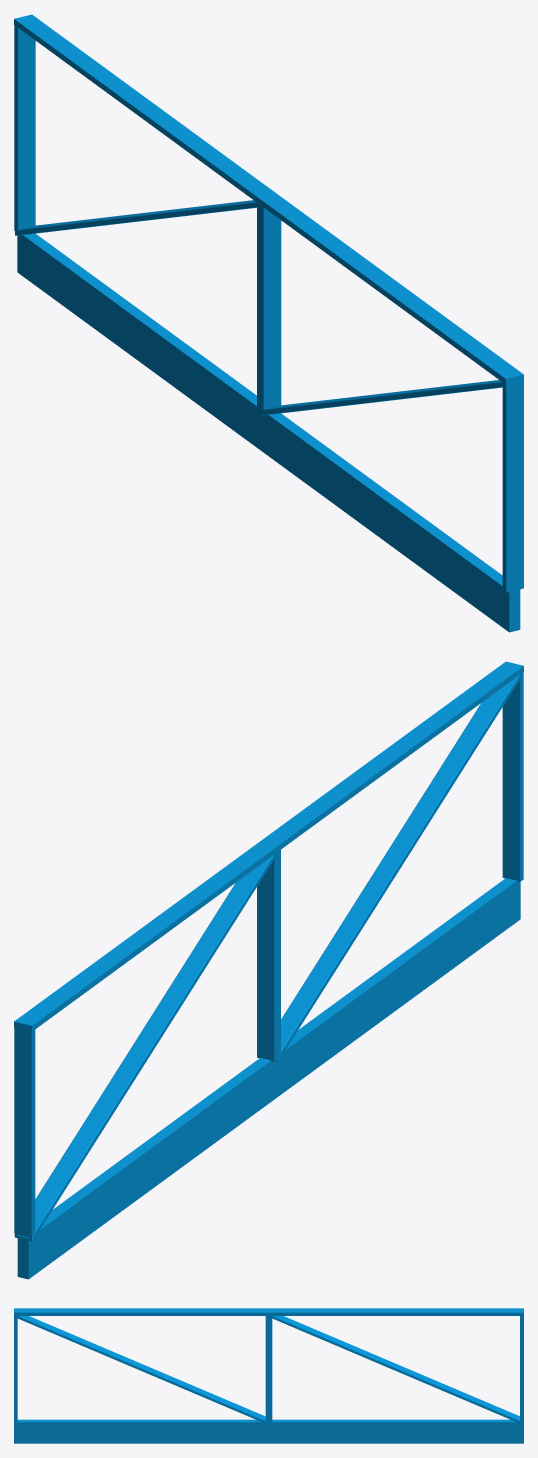
Rendered from Metal_Floor_Rail_x2.fbx.
3 renders of one model, top to bottom at view 1: azimuth 30°, elevation 25°; view 2: azimuth 150°, elevation 25°; view 3: azimuth 270°, elevation 25°, orthographic. The views are drawn at different scales.
Visible parts, largest first — view 1: Metal_Floor_Rail_x2; view 2: Metal_Floor_Rail_x2; view 3: Metal_Floor_Rail_x2.
Part boxes in pixels (box(x1,y1,x2,y2)): Metal_Floor_Rail_x2: box(14, 14, 523, 632); Metal_Floor_Rail_x2: box(14, 661, 523, 1279); Metal_Floor_Rail_x2: box(14, 1308, 523, 1443).
Bounding box in the file's own units: 6.42 × 85.47 × 300.
